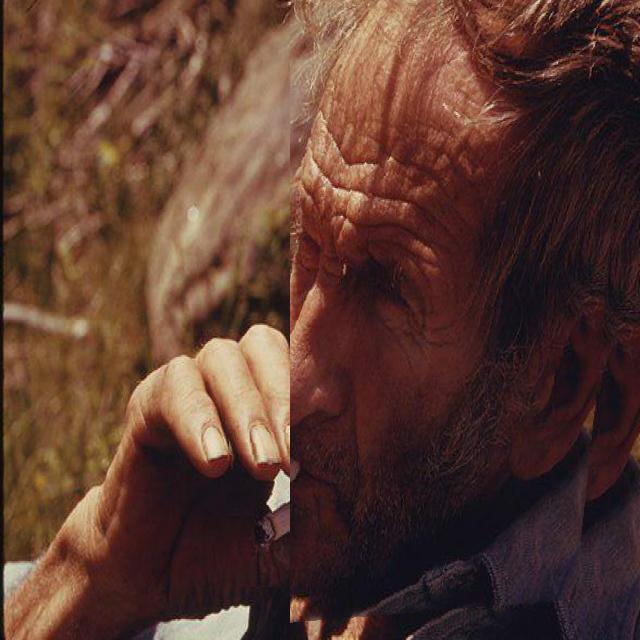cigarette: (226, 410, 376, 587)
